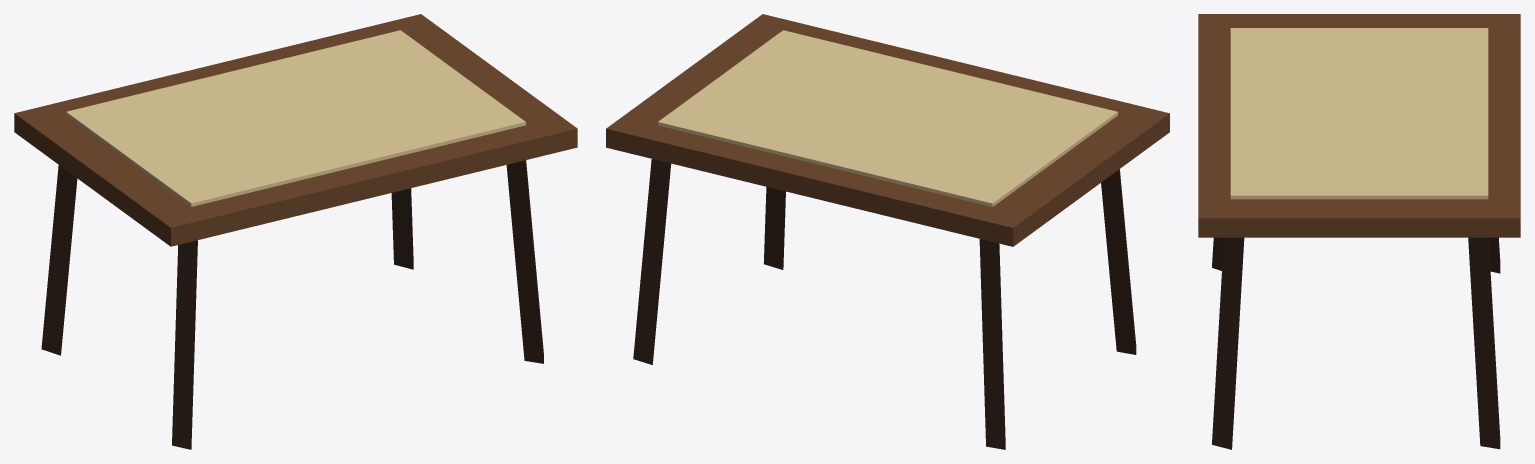
File: SM_Prop_SkyChartTable_LQ.glb
3 views of the same model, side by side, from view 1: azimuth 30°, elevation 25°; view 2: azimuth 150°, elevation 25°; view 3: azimuth 270°, elevation 25° (orthographic). The views are drawn at different scales.
Visible parts, largest first — view 1: SM_Prop_SkyChartTable_LQ; view 2: SM_Prop_SkyChartTable_LQ; view 3: SM_Prop_SkyChartTable_LQ.
Boxes of the visible parts, x1=… form: SM_Prop_SkyChartTable_LQ: x1=14, y1=14, x2=577, y2=449; SM_Prop_SkyChartTable_LQ: x1=606, y1=14, x2=1169, y2=449; SM_Prop_SkyChartTable_LQ: x1=1198, y1=14, x2=1520, y2=449.
Size of the model in its own units: 1.8 by 1.01 by 1.2.
1 material, 1 textured.
